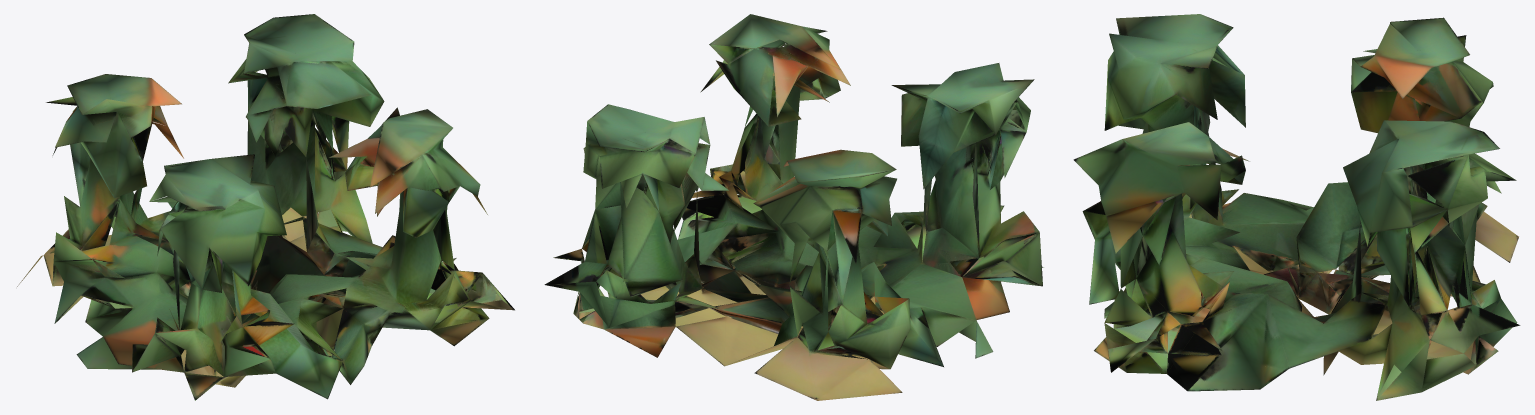
File: JungleBush.glb
The picture shows the model from 3 angles, left to right: view 1: azimuth 30°, elevation 25°; view 2: azimuth 150°, elevation 25°; view 3: azimuth 270°, elevation 25°; orthographic projection. The views are drawn at different scales.
Size of the model in its own units: 1.98 by 1.24 by 2.
Materials: 1 (1 with a texture image).
